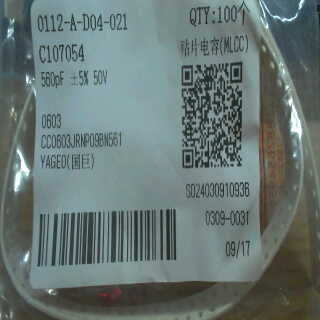560pF: (38, 67, 68, 93)
